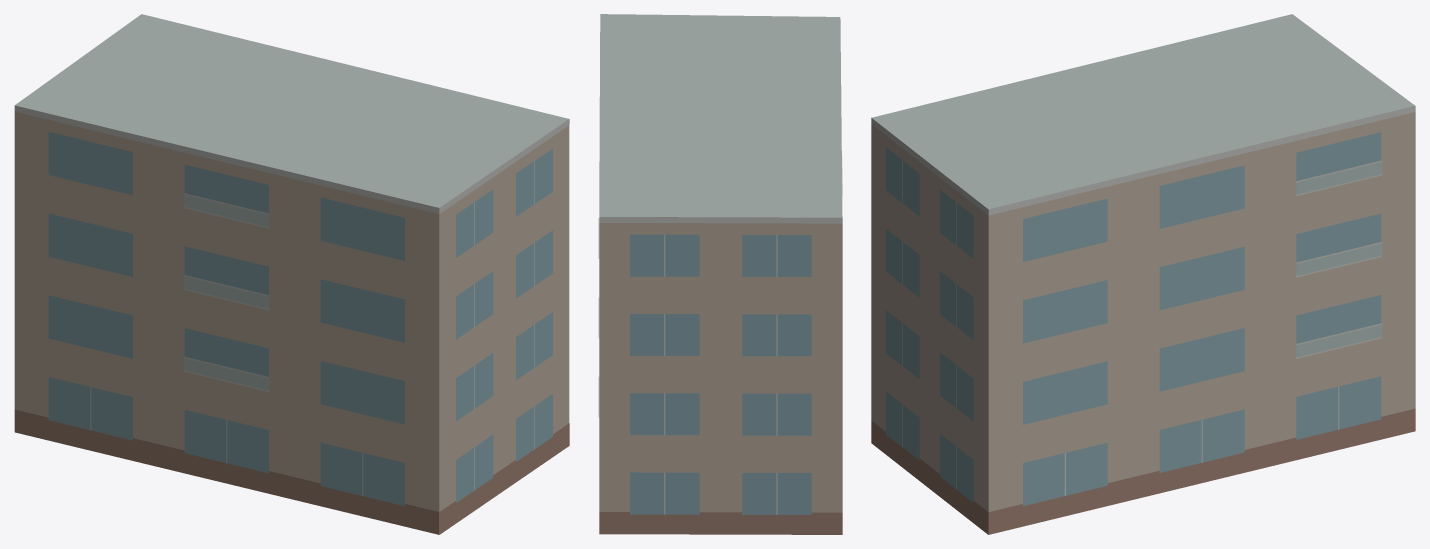
Rendered from survey-upis-32938523.glb.
3 renders of one model, left to right at view 1: azimuth 30°, elevation 25°; view 2: azimuth 150°, elevation 25°; view 3: azimuth 270°, elevation 25°, orthographic. The views are drawn at different scales.
Visible parts, largest first — view 1: survey-upis-32938523.tmp; view 2: survey-upis-32938523.tmp; view 3: survey-upis-32938523.tmp.
Boxes of the visible parts, x1=… form: survey-upis-32938523.tmp: x1=14, y1=14, x2=569, y2=534; survey-upis-32938523.tmp: x1=598, y1=14, x2=842, y2=534; survey-upis-32938523.tmp: x1=871, y1=14, x2=1415, y2=534.
Bounding box in the file's own units: 16.75 × 13 × 19.7.
